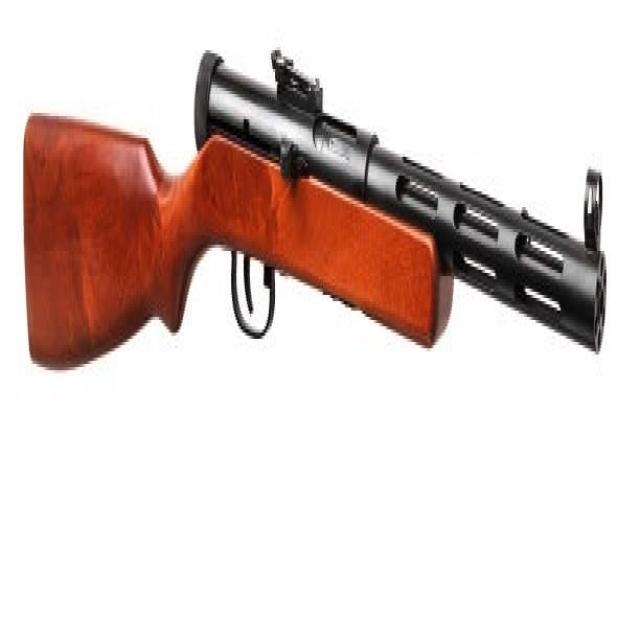rifle: (19, 20, 611, 408)
